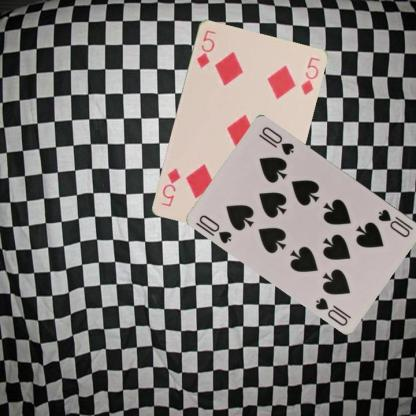10s: (375, 206, 415, 239), (197, 212, 234, 245)
5d: (194, 27, 217, 69)
